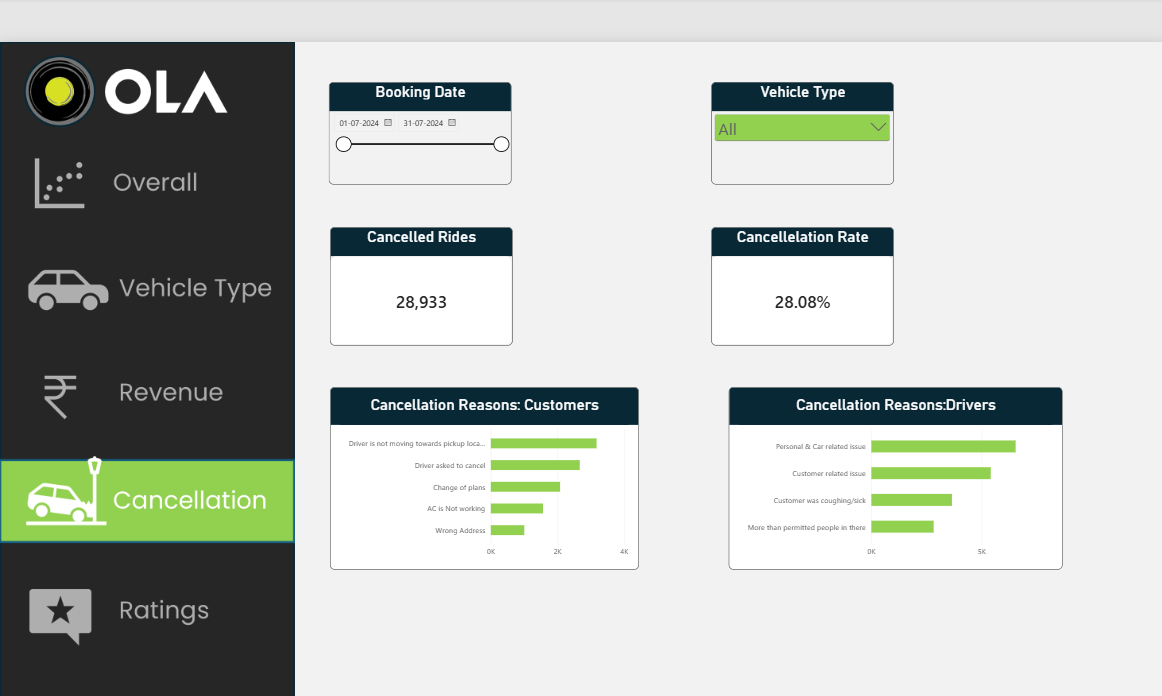

The page's visual inventory and layout, read from the dashboard file:
{"tool":"powerbi","page":{"name":"Cancellation","canvas":[1920,1080],"ordinal":3},"visuals":[{"type":"slicer","title":"Booking Date","fields":{"Values":["ola_rides.booking_datetime"]},"box":[542.2,65.4,301,169],"z":0},{"type":"slicer","title":"Vehicle Type","fields":{"Values":["vehicle_icons.vehicle_type"]},"box":[1171.2,65.9,300.5,168.8],"z":1000},{"type":"cardVisual","title":"Cancelled Rides","fields":{"Data":["ola_rides.Cancelled Rides"]},"box":[543.4,304.6,300.5,195.5],"z":2000},{"type":"cardVisual","title":"Cancellelation Rate","fields":{"Data":["ola_rides.Cancellation Rate %"]},"box":[1171.2,304.6,300.5,195.5],"z":3000},{"type":"clusteredBarChart","title":"Cancellation Reasons: Customers","fields":{"Category":["ola_rides.cancel_reason_customer"],"Y":["ola_rides.Total Rides"]},"box":[543.4,568.1,508.4,300.5],"z":4000},{"type":"clusteredBarChart","title":"Cancellation Reasons:Drivers","fields":{"Category":["ola_rides.cancel_reason_driver"],"Y":["ola_rides.Total Rides"]},"box":[1200,568.1,549.6,300.5],"z":5000},{"type":"actionButton","box":[0,829.5,481.6,187.3],"z":6000},{"type":"actionButton","box":[0,518.7,481.6,170.8],"z":7000},{"type":"actionButton","box":[0,327.3,481.6,172.9],"z":8000},{"type":"actionButton","box":[0,168.8,481.6,158.5],"z":9000}]}

Visuals, with their boxes on the page's 1920x1080 design canvas (x1, y1, x2, y2). These are canvas units, not pixel positions in the 1162x696 screenshot, which may show the page scaled, cropped or inside an application window:
"Booking Date" slicer: (542,65,843,234)
"Vehicle Type" slicer: (1171,66,1472,235)
"Cancelled Rides" cardVisual: (543,305,844,500)
"Cancellelation Rate" cardVisual: (1171,305,1472,500)
"Cancellation Reasons: Customers" clusteredBarChart: (543,568,1052,869)
"Cancellation Reasons:Drivers" clusteredBarChart: (1200,568,1750,869)
actionButton: (0,830,482,1017)
actionButton: (0,519,482,690)
actionButton: (0,327,482,500)
actionButton: (0,169,482,327)
